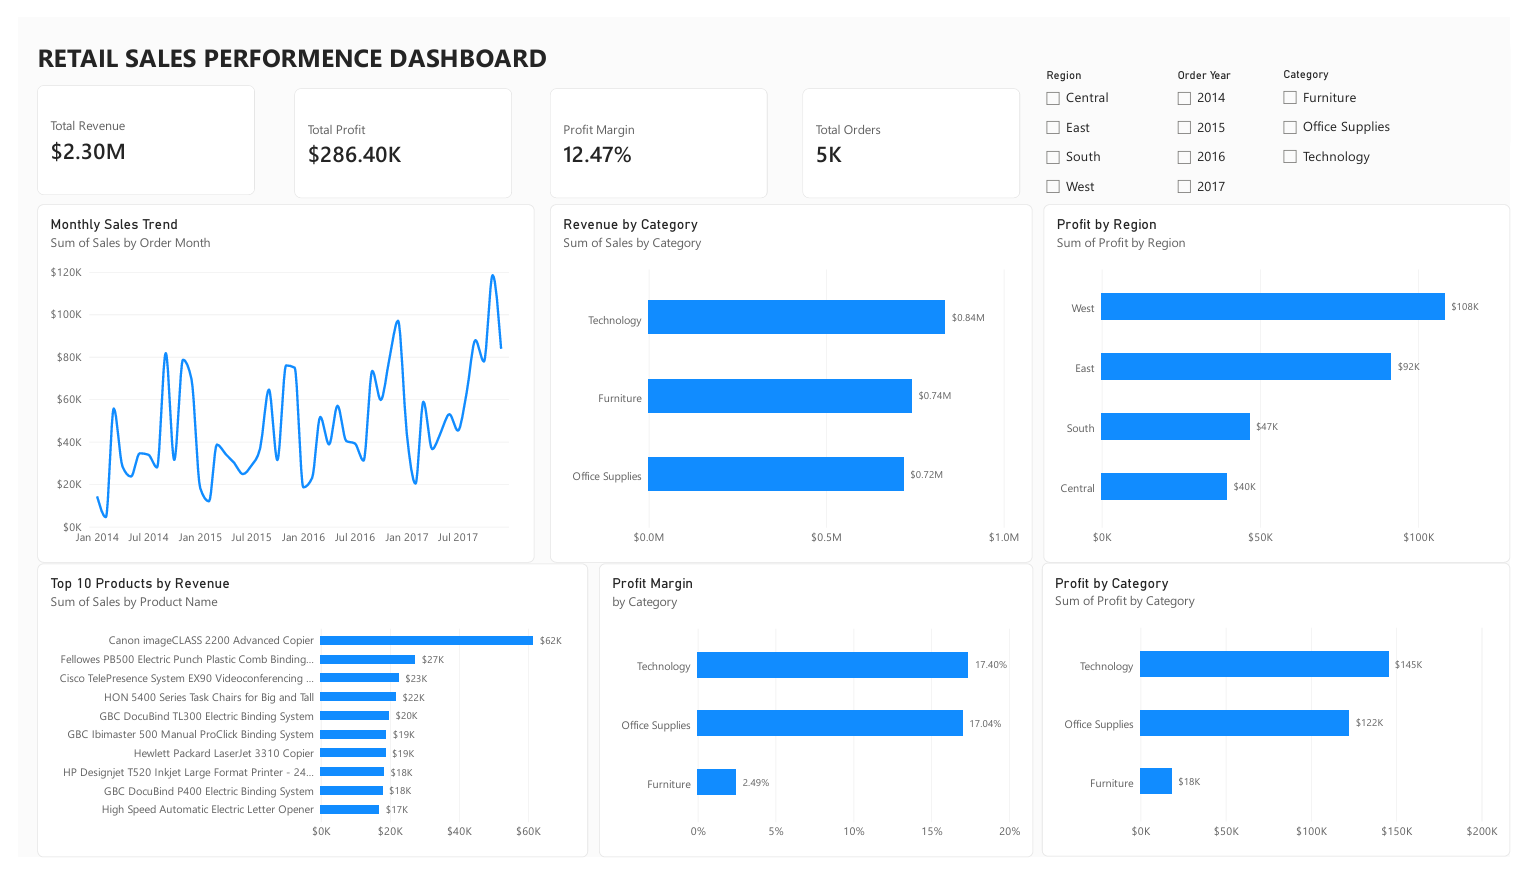

The page's visual inventory and layout, read from the dashboard file:
{"tool":"powerbi","page":{"name":"Page 1","canvas":[1920,1080],"ordinal":0},"visuals":[{"type":"cardVisual","fields":{"Data":["cleaned_sales.Total Revenue"]},"box":[24.2,86.7,280.4,141.2],"z":1},{"type":"cardVisual","fields":{"Data":["cleaned_sales.Total Profit"]},"box":[355,90.8,280.4,141.2],"z":2},{"type":"cardVisual","fields":{"Data":["cleaned_sales.Profit Margin"]},"box":[683.8,90.8,280.4,141.2],"z":3},{"type":"cardVisual","fields":{"Data":["cleaned_sales.Total Orders"]},"box":[1008.6,90.8,280.4,141.2],"z":4},{"type":"lineChart","title":"Monthly Sales Trend","fields":{"Category":["cleaned_sales.Order Month"],"Y":["Sum(cleaned_sales.Sales)"]},"box":[24.2,240.1,640.1,461.1],"z":5},{"type":"clusteredBarChart","title":"Revenue by Category","fields":{"Category":["cleaned_sales.Category"],"Y":["Sum(cleaned_sales.Sales)"]},"box":[683.8,240.1,621.6,461.1],"z":6},{"type":"clusteredBarChart","title":"Profit by Region","fields":{"Category":["cleaned_sales.Region"],"Y":["Sum(cleaned_sales.Profit)"]},"box":[1319.3,240.1,601,461.1],"z":7},{"type":"slicer","fields":{"Values":["cleaned_sales.Region"]},"box":[1315.1,65.6,144.1,199.7],"z":8},{"type":"slicer","fields":{"Values":["cleaned_sales.Order Year"]},"box":[1483.9,65.6,131.7,199.7],"z":9},{"type":"slicer","fields":{"Values":["cleaned_sales.Category"]},"box":[1620.4,65.3,193,205],"z":10},{"type":"textbox","box":[24.2,28.2,659.6,54.5],"z":11},{"type":"clusteredBarChart","title":"Profit by Category","fields":{"Category":["cleaned_sales.Category"],"Y":["Sum(cleaned_sales.Profit)"]},"box":[1316.9,701.1,603.6,378],"z":12},{"type":"clusteredBarChart","title":"Top 10 Products by Revenue","fields":{"Category":["cleaned_sales.Product Name"],"Y":["Sum(cleaned_sales.Sales)"]},"box":[24.5,702,708.2,377.6],"z":13},{"type":"clusteredBarChart","fields":{"Category":["cleaned_sales.Category"],"Y":["cleaned_sales.Profit Margin"]},"box":[746.9,702,559.2,377.6],"z":14}]}

Visuals, with their boxes in screenshot pixels (x1, y1, x2, y2), scaled from the page's 1920x1080 canvas onto the 1526x875 screenshot:
cardVisual - cleaned_sales.Total Revenue: <bbox>19, 70, 242, 185</bbox>
cardVisual - cleaned_sales.Total Profit: <bbox>282, 74, 505, 188</bbox>
cardVisual - cleaned_sales.Profit Margin: <bbox>543, 74, 766, 188</bbox>
cardVisual - cleaned_sales.Total Orders: <bbox>802, 74, 1024, 188</bbox>
"Monthly Sales Trend" lineChart: <bbox>19, 195, 528, 568</bbox>
"Revenue by Category" clusteredBarChart: <bbox>543, 195, 1038, 568</bbox>
"Profit by Region" clusteredBarChart: <bbox>1049, 195, 1525, 568</bbox>
slicer - cleaned_sales.Region: <bbox>1045, 53, 1160, 215</bbox>
slicer - cleaned_sales.Order Year: <bbox>1179, 53, 1284, 215</bbox>
slicer - cleaned_sales.Category: <bbox>1288, 53, 1441, 219</bbox>
textbox: <bbox>19, 23, 543, 67</bbox>
"Profit by Category" clusteredBarChart: <bbox>1047, 568, 1525, 874</bbox>
"Top 10 Products by Revenue" clusteredBarChart: <bbox>19, 569, 582, 874</bbox>
clusteredBarChart - cleaned_sales.Category x cleaned_sales.Profit Margin: <bbox>594, 569, 1038, 874</bbox>
